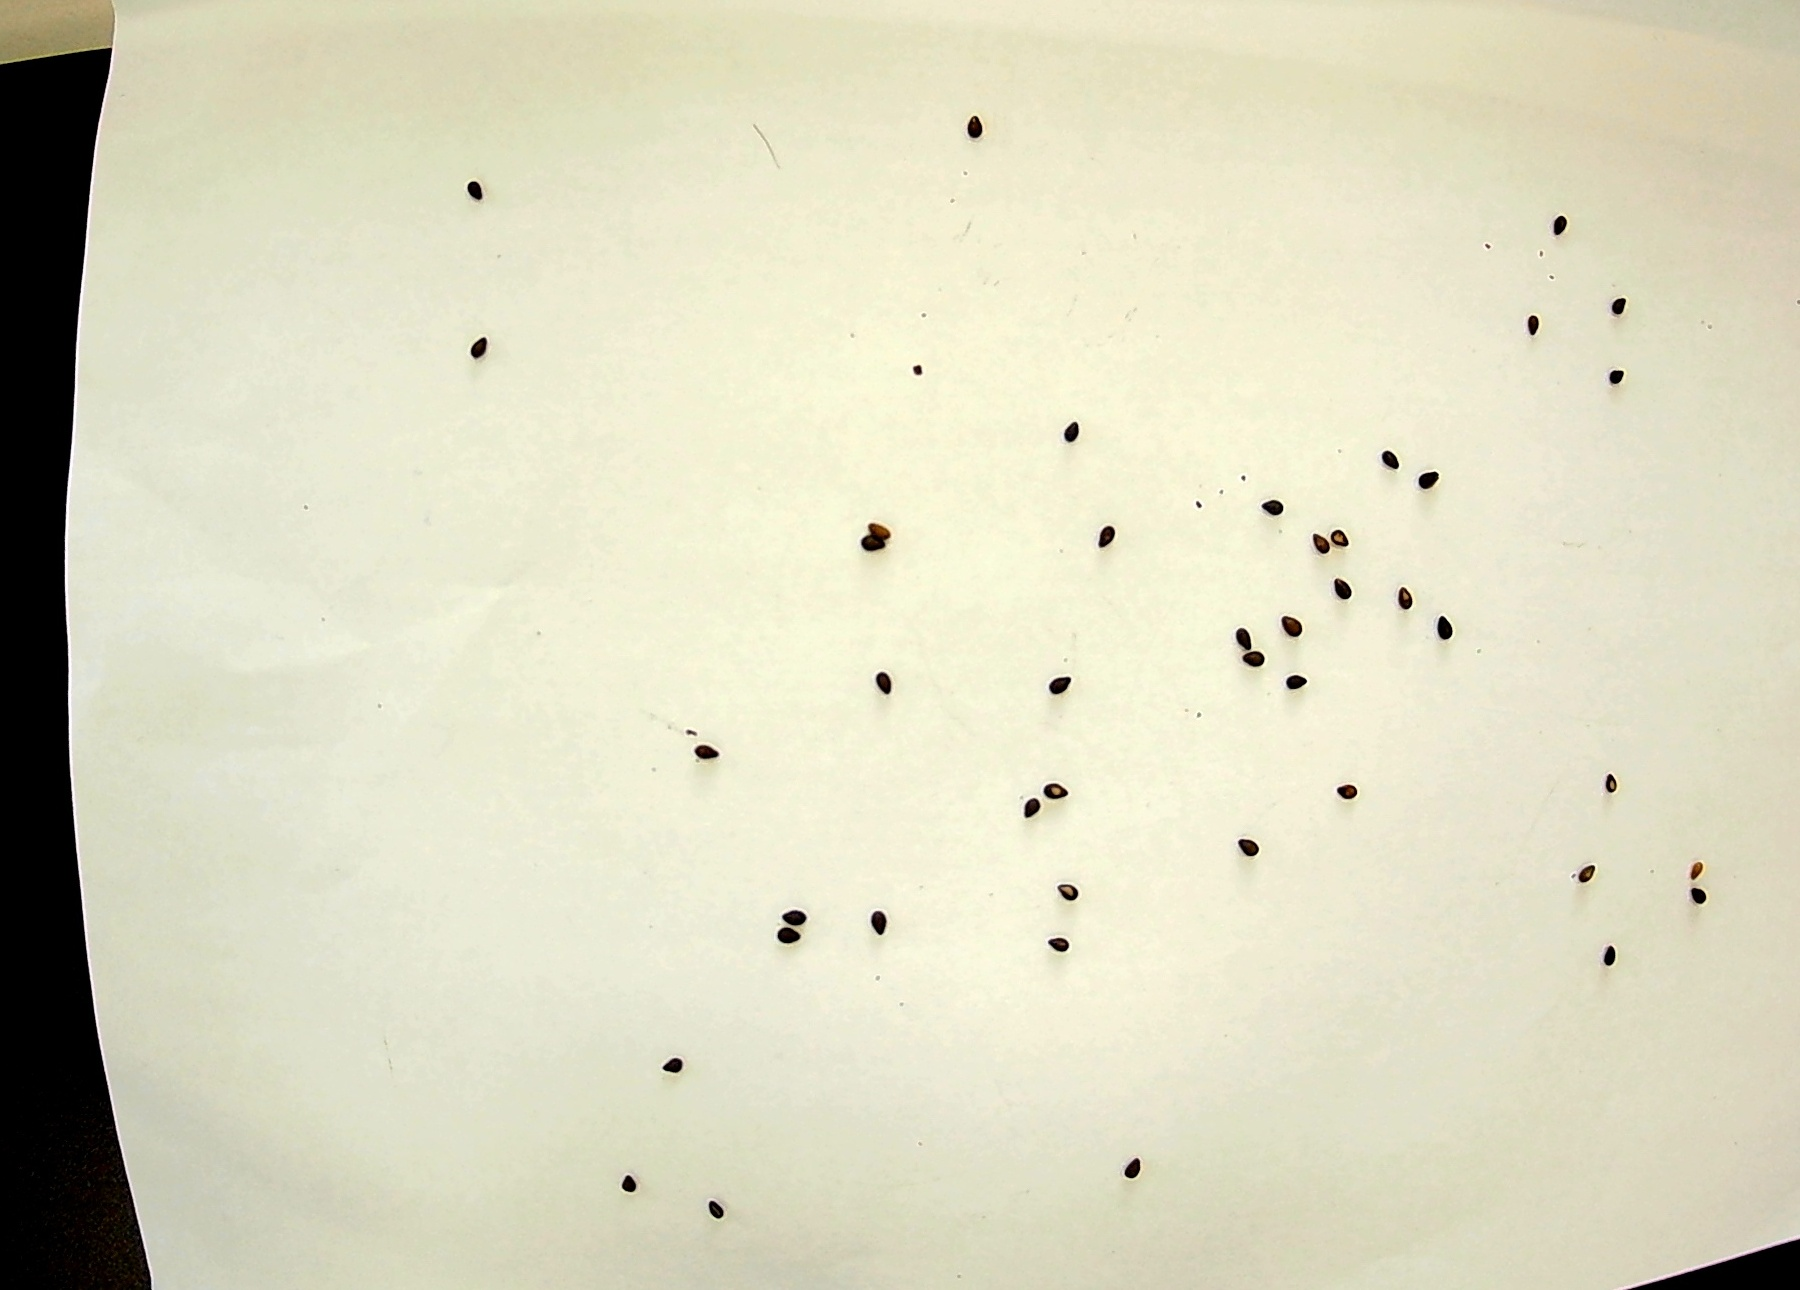sesami: (1238, 649, 1275, 694), (1233, 829, 1271, 874), (1225, 605, 1261, 651), (1545, 209, 1587, 249), (1278, 600, 1314, 645), (1090, 518, 1132, 556), (1407, 465, 1448, 503), (1253, 489, 1293, 526), (1374, 436, 1415, 473), (1592, 352, 1633, 390), (1605, 279, 1645, 317), (769, 921, 808, 959), (1040, 926, 1079, 963), (604, 1171, 643, 1209), (703, 1187, 742, 1224), (853, 905, 892, 941), (1111, 1155, 1150, 1191), (654, 1051, 693, 1088), (705, 1189, 744, 1226), (1328, 524, 1362, 560), (1293, 526, 1327, 563), (1520, 297, 1552, 335), (1041, 775, 1073, 813), (1017, 792, 1049, 829), (1049, 660, 1081, 698), (864, 498, 896, 536), (692, 743, 724, 780), (1676, 847, 1707, 887), (1587, 942, 1617, 981), (1573, 852, 1603, 891), (1330, 776, 1360, 815), (1380, 572, 1413, 607), (1321, 577, 1353, 613), (1049, 866, 1081, 902), (862, 540, 894, 577), (864, 665, 896, 701), (1427, 605, 1457, 644), (1593, 769, 1623, 808), (1681, 884, 1711, 923), (1285, 667, 1314, 706), (772, 894, 802, 930), (465, 180, 493, 208), (463, 332, 491, 360), (959, 114, 987, 142), (1058, 415, 1086, 443)
